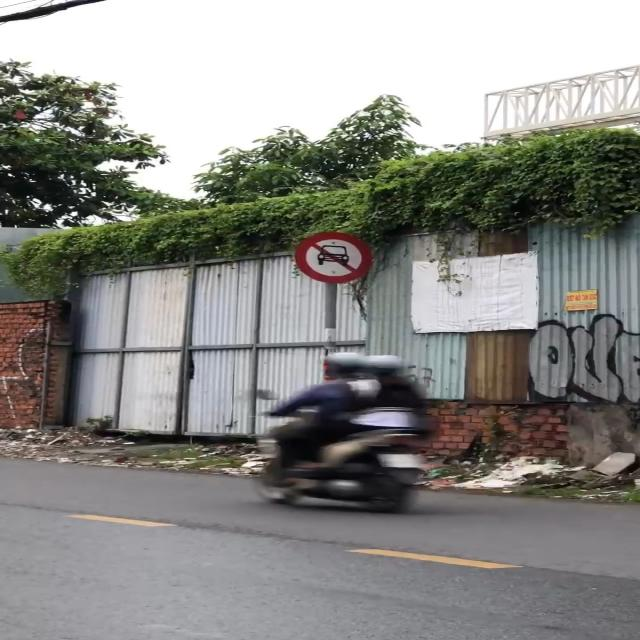Bien bao cam xe oto: (291, 231, 382, 285)
